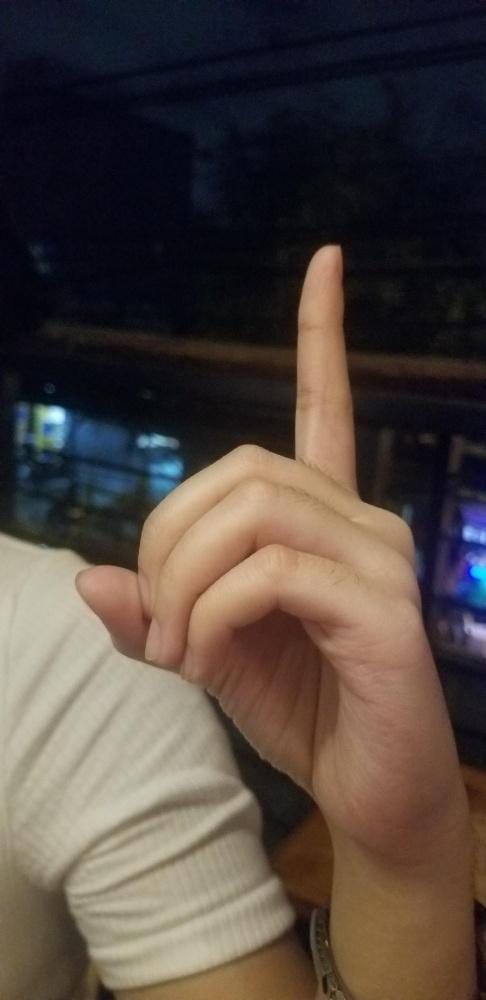d: (75, 242, 470, 823)
